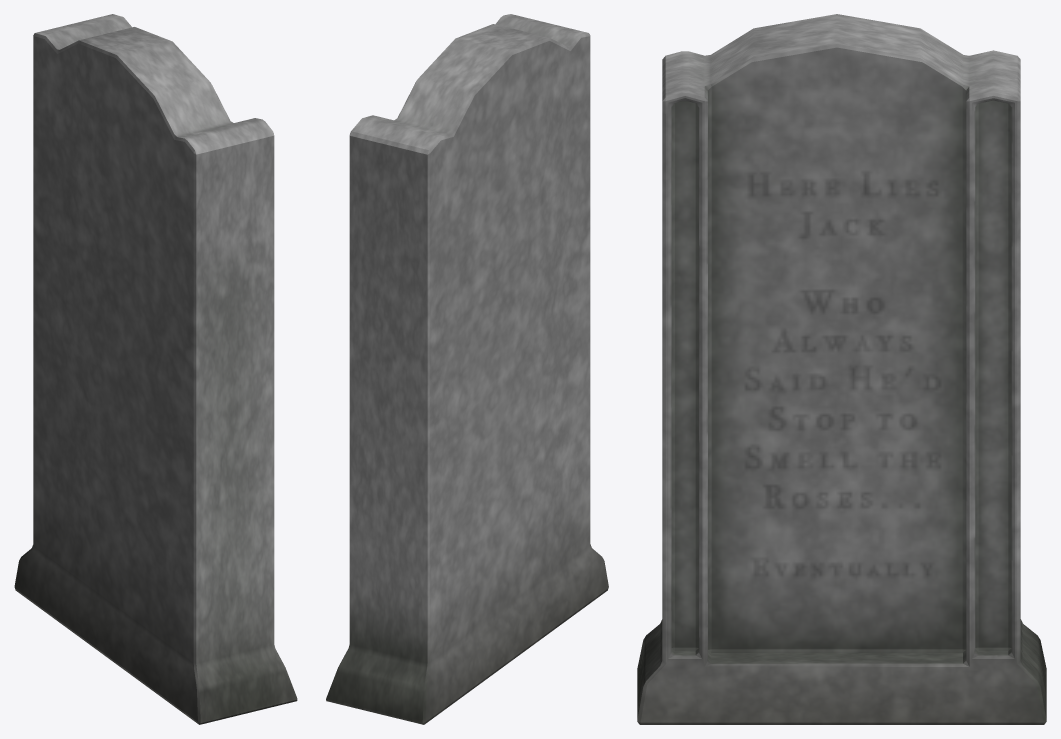
Rendered from Grave_1.fbx.
3 views of the same model, side by side, from view 1: azimuth 30°, elevation 25°; view 2: azimuth 150°, elevation 25°; view 3: azimuth 270°, elevation 25° (orthographic). The views are drawn at different scales.
Parts seen in each view (by area): view 1: Grave_1_LOD0; view 2: Grave_1_LOD0; view 3: Grave_1_LOD0.
Boxes of the visible parts, bbox=[...] form: Grave_1_LOD0: bbox=[14, 14, 297, 724]; Grave_1_LOD0: bbox=[326, 14, 608, 724]; Grave_1_LOD0: bbox=[637, 14, 1046, 724].
Size of what is drawn, in the model's own units: 76.15 by 442 by 248.
